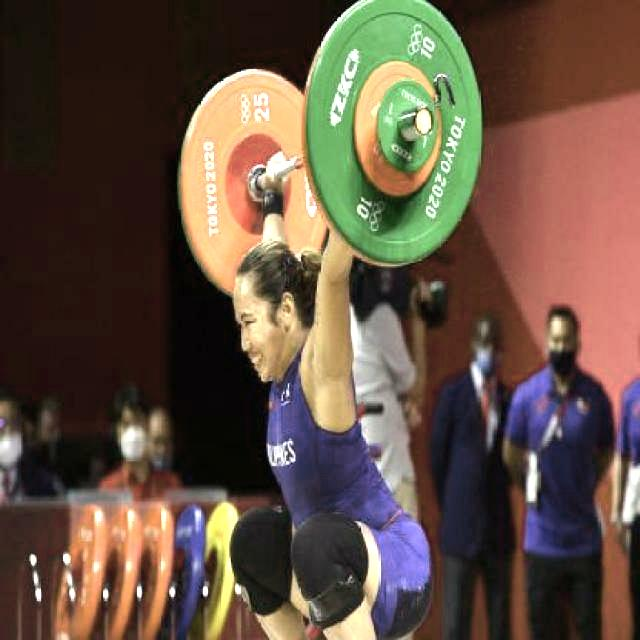barbell: (291, 1, 490, 277)
